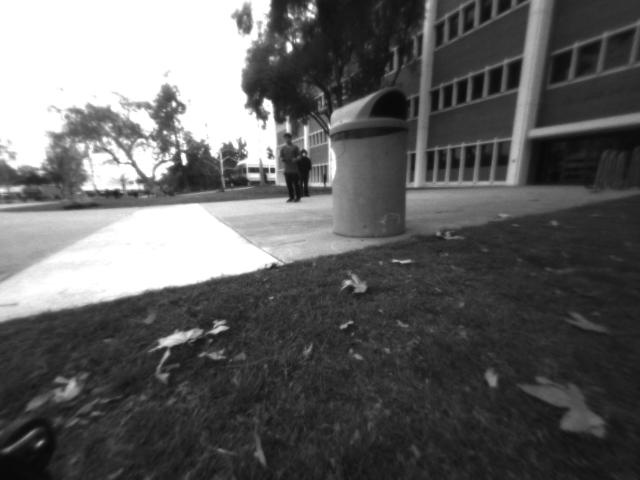trashcan: (327, 79, 420, 242)
